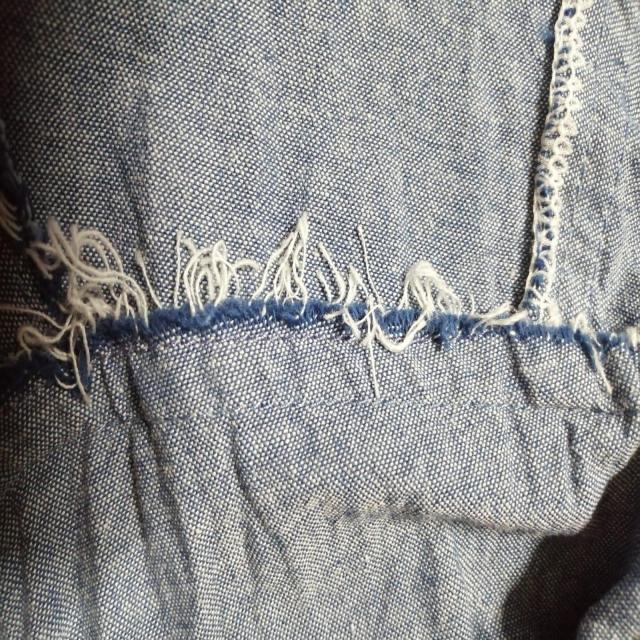gray stitch: (515, 0, 591, 326)
